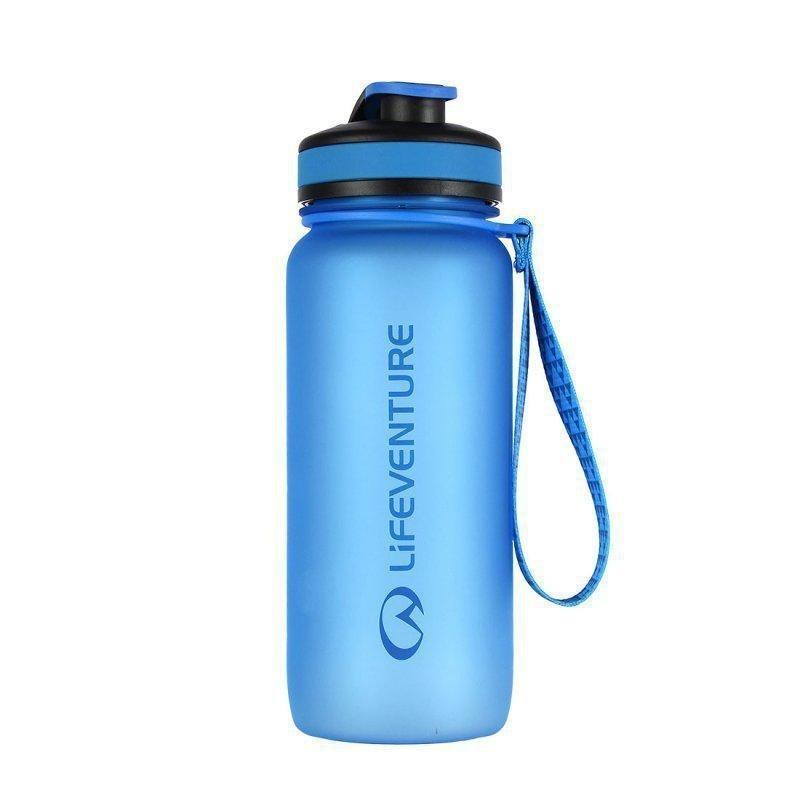gym bottle: (278, 82, 615, 747)
